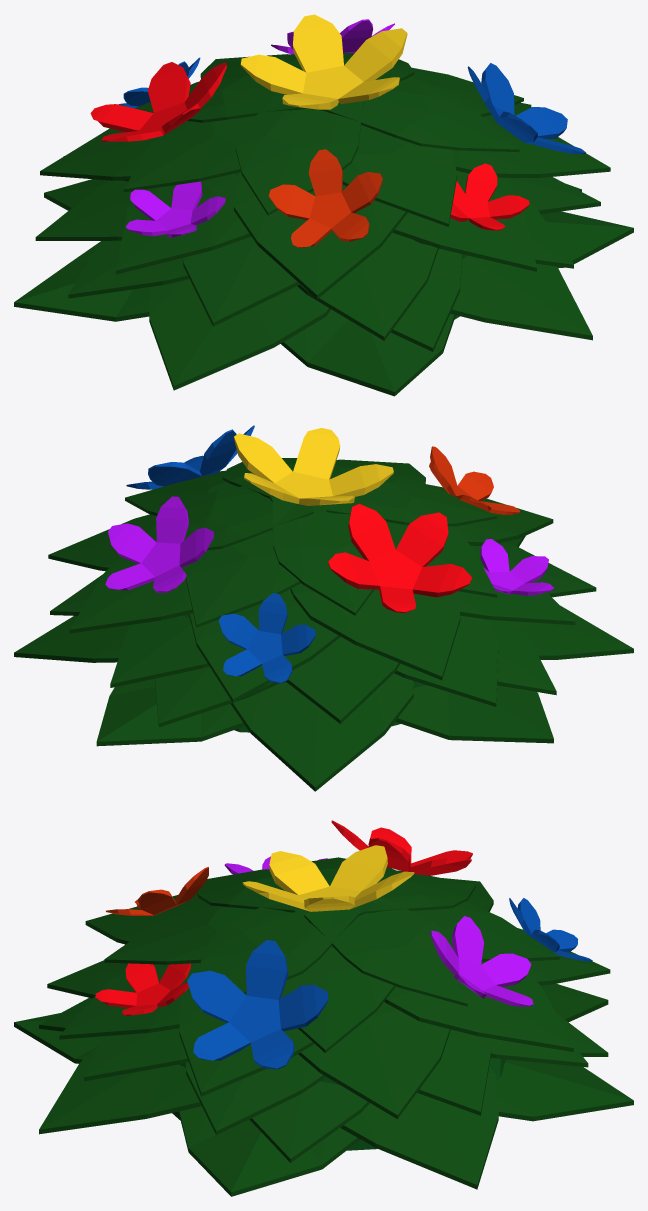
Rendered from BushFlowers.obj.
3 renders of one model, top to bottom at view 1: azimuth 30°, elevation 25°; view 2: azimuth 150°, elevation 25°; view 3: azimuth 270°, elevation 25°, orthographic. The views are drawn at different scales.
Parts seen in each view (by area): view 1: BushFlowers_Cube.007; view 2: BushFlowers_Cube.007; view 3: BushFlowers_Cube.007.
Boxes of the visible parts, x1=… form: BushFlowers_Cube.007: x1=14, y1=14, x2=633, y2=396; BushFlowers_Cube.007: x1=14, y1=425, x2=633, y2=791; BushFlowers_Cube.007: x1=14, y1=820, x2=633, y2=1196.
Bounding box in the file's own units: 9.82 × 3.73 × 9.71.
